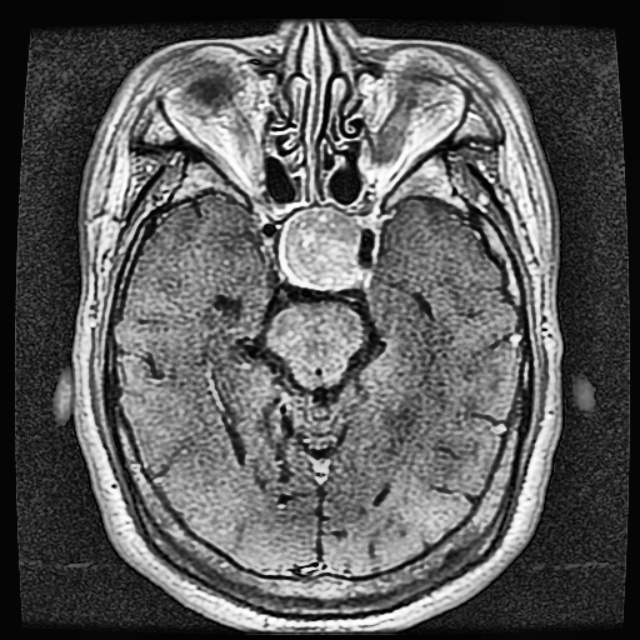Pituitary: (283, 209, 359, 289)
